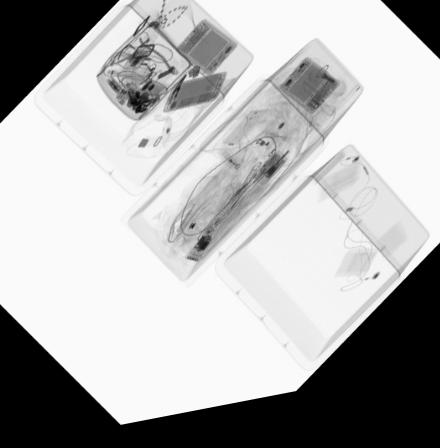Lighter: (215, 153, 240, 182)
